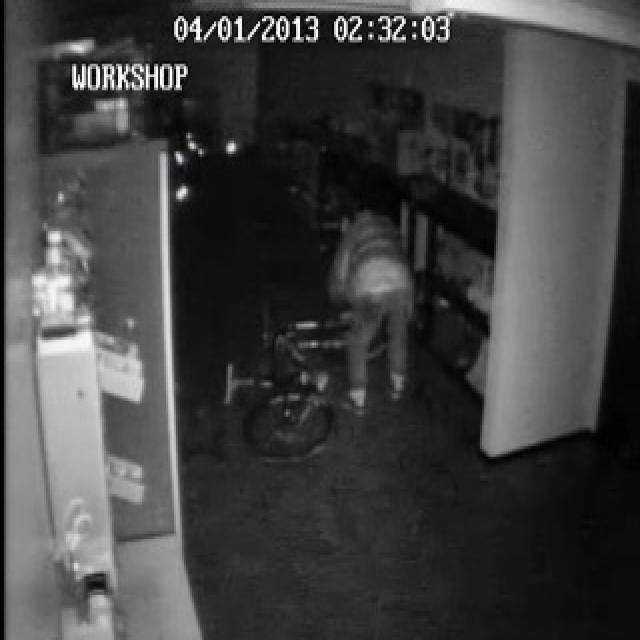thief: (331, 193, 420, 370)
